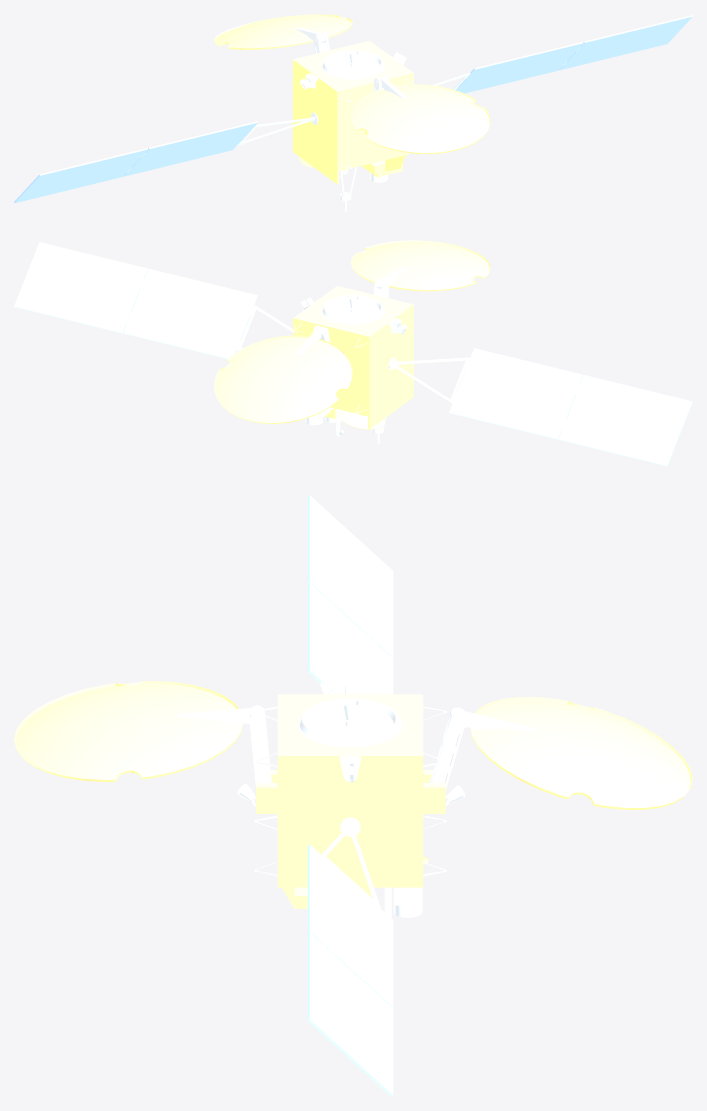
The model's file is satellite.glb.
The picture shows the model from 3 angles, top to bottom: view 1: azimuth 30°, elevation 25°; view 2: azimuth 150°, elevation 25°; view 3: azimuth 270°, elevation 25°; orthographic projection. The views are drawn at different scales.
Visible parts, largest first — view 1: modown_models_5-AM84_026_Gold_alu, modown_models_5-AM84_026_Solar_Batery, modown_models_5-AM84_026_Metal; view 2: modown_models_5-AM84_026_Solar_Batery, modown_models_5-AM84_026_Gold_alu, modown_models_5-AM84_026_Metal; view 3: modown_models_5-AM84_026_Gold_alu, modown_models_5-AM84_026_Solar_Batery, modown_models_5-AM84_026_Metal.
Boxes of the visible parts, x1=… form: modown_models_5-AM84_026_Gold_alu: x1=214, y1=14, x2=490, y2=184; modown_models_5-AM84_026_Solar_Batery: x1=14, y1=15, x2=692, y2=203; modown_models_5-AM84_026_Metal: x1=127, y1=27, x2=579, y2=211; modown_models_5-AM84_026_Solar_Batery: x1=14, y1=242, x2=692, y2=466; modown_models_5-AM84_026_Gold_alu: x1=214, y1=240, x2=490, y2=429; modown_models_5-AM84_026_Metal: x1=126, y1=266, x2=579, y2=444; modown_models_5-AM84_026_Gold_alu: x1=14, y1=680, x2=692, y2=908; modown_models_5-AM84_026_Solar_Batery: x1=307, y1=495, x2=393, y2=1096; modown_models_5-AM84_026_Metal: x1=178, y1=594, x2=535, y2=995.
Bounding box in the file's own units: 209 × 45.33 × 114.
